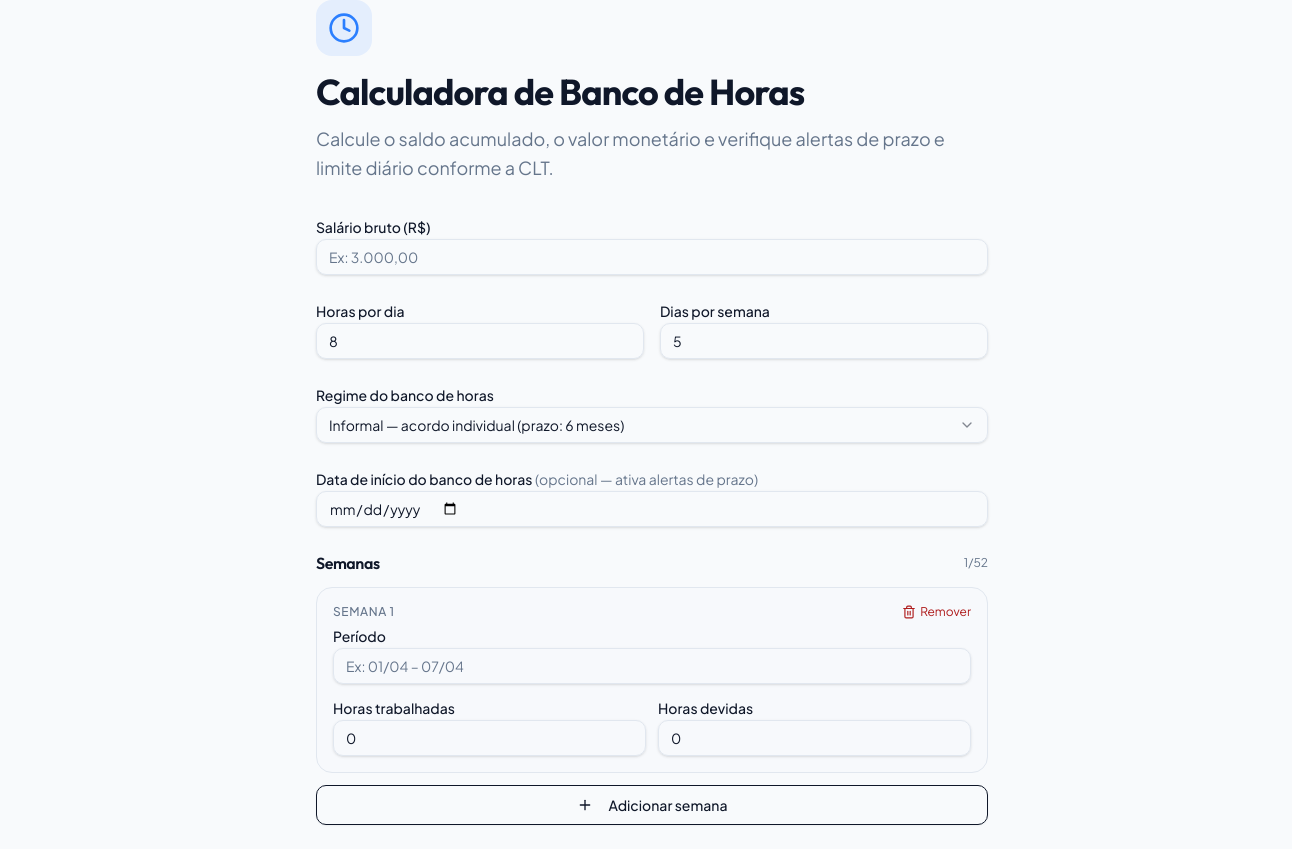
Scenario: BancoDeHorasPage — lista dinâmica de semanas (Task 4.2) › botão remover da única semana remove a linha (possibilita atingir lista vazia)
expect the number of elements with test id "semana-row" is 1: met, box [316,586,988,772]
Click the button with aria-label "remover semana". click: (937, 612)
box: [902,604,971,620]
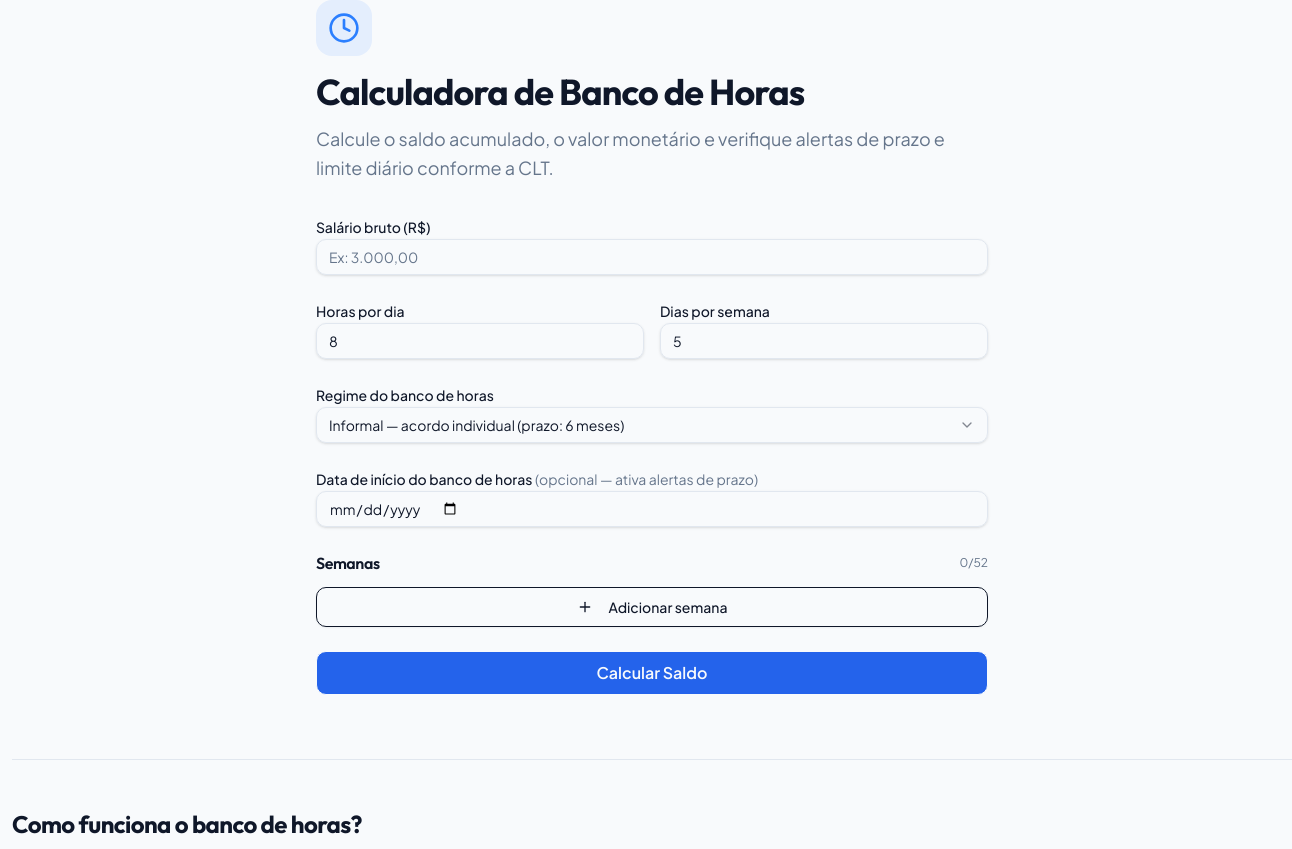
expect no elements with test id "semana-row" are shown: met
